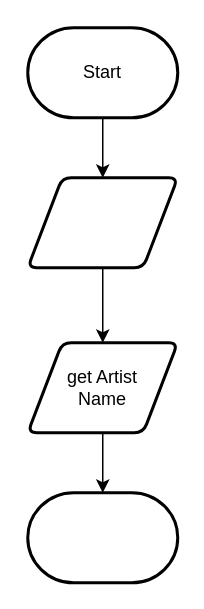
The diagram is 204 pixels wide and 609 high, and some of its shapes have lost their labels. The box of each missing label's shape, as (x1, y1, x2, y2) in pixels:
getImage: (26, 176, 178, 268)
Stop: (26, 490, 178, 584)
